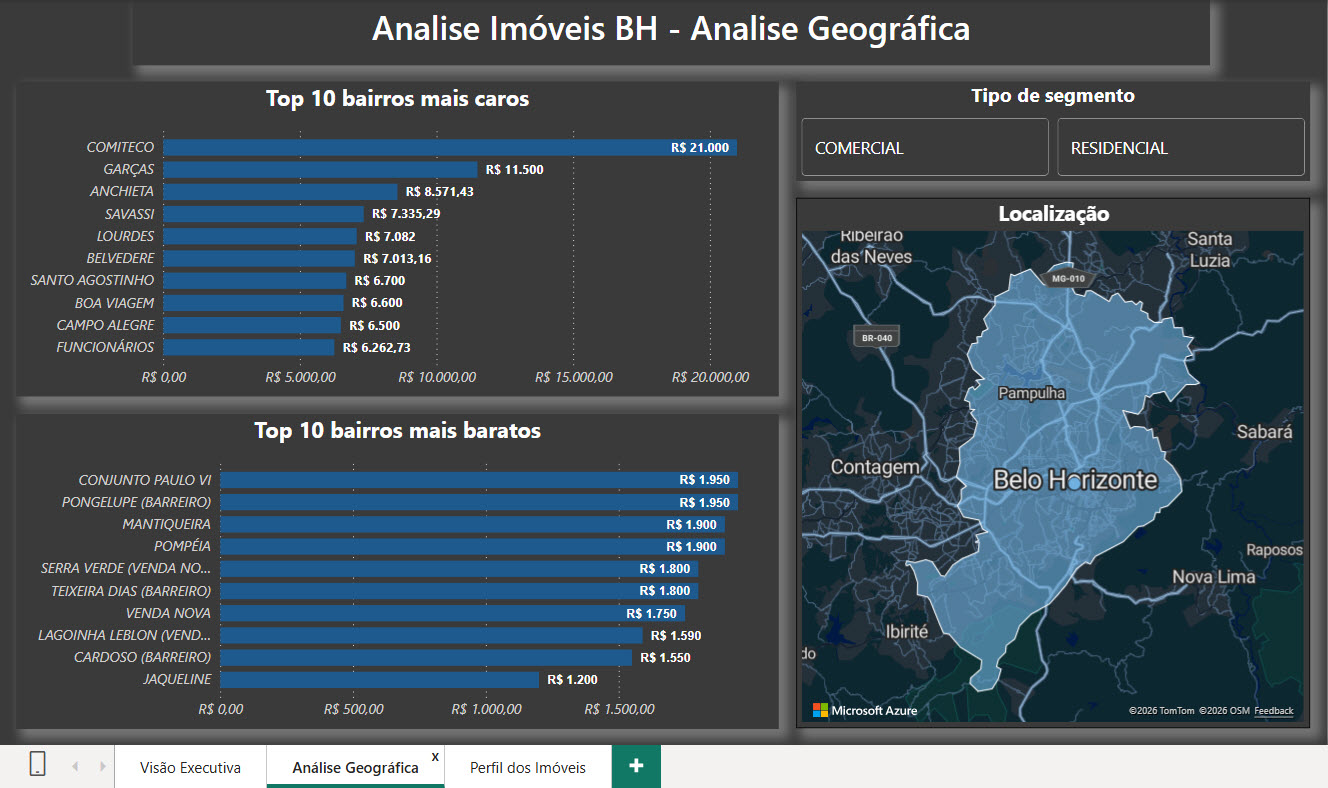

The page's visual inventory and layout, read from the dashboard file:
{"tool":"powerbi","page":{"name":"Análise Geográfica","canvas":[1280,720],"ordinal":1},"visuals":[{"type":"textbox","title":"Analise  - Imóveis BH - Visão Geral","box":[128,0,1040,64],"z":0},{"type":"barChart","title":"Top 10 bairros mais caros","fields":{"Category":["zap_bairros.BAIRRO"],"Y":["Avg(zap_bairros.PRECO_MEDIO)"]},"box":[16,80,736,304],"z":1000},{"type":"barChart","title":"Top 10 bairros mais baratos","fields":{"Category":["zap_bairros_baratos.BAIRRO"],"Y":["Avg(zap_bairros_baratos.PRECO_MEDIO)"]},"box":[16,400,736,304],"z":2000},{"type":"advancedSlicerVisual","title":"Tipo de segmento","fields":{"Values":["zap_gold.SEGMENTO"]},"box":[768,80,496,96],"z":3000},{"type":"azureMap","title":"Localização","fields":{"Category":["zap_gold.CIDADE"]},"box":[768,192,496,512],"z":4000}]}

Visuals, with their boxes on the page's 1280x720 design canvas (x1, y1, x2, y2). These are canvas units, not pixel positions in the 1328x788 screenshot, which may show the page scaled, cropped or inside an application window:
"Analise  - Imóveis BH - Visão Geral" textbox: left=128, top=0, right=1168, bottom=64
"Top 10 bairros mais caros" barChart: left=16, top=80, right=752, bottom=384
"Top 10 bairros mais baratos" barChart: left=16, top=400, right=752, bottom=704
"Tipo de segmento" advancedSlicerVisual: left=768, top=80, right=1264, bottom=176
"Localização" azureMap: left=768, top=192, right=1264, bottom=704
